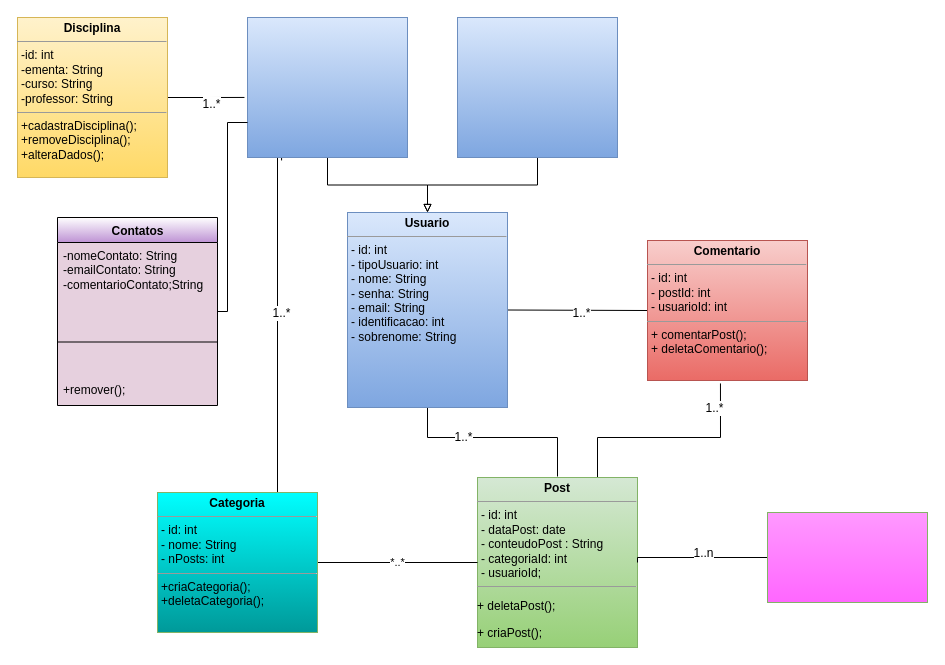
Image size: 945x665. Some labels were removed from this diagram. The shapes that lost their labels are listed below. From the top down, each one's box as (x1, y1, x2, y2) in pixels, then its label:
(246, 16, 408, 158): Administrador - cadastro: int + cadastrarUsuario(); + verificaAdmin ();
(456, 16, 618, 158): Aluno - curso: int - matricula: int + efetuarCadastro(); +alteraCadastro();
(766, 512, 928, 602): Notifica -id: int + enviaEmail();
